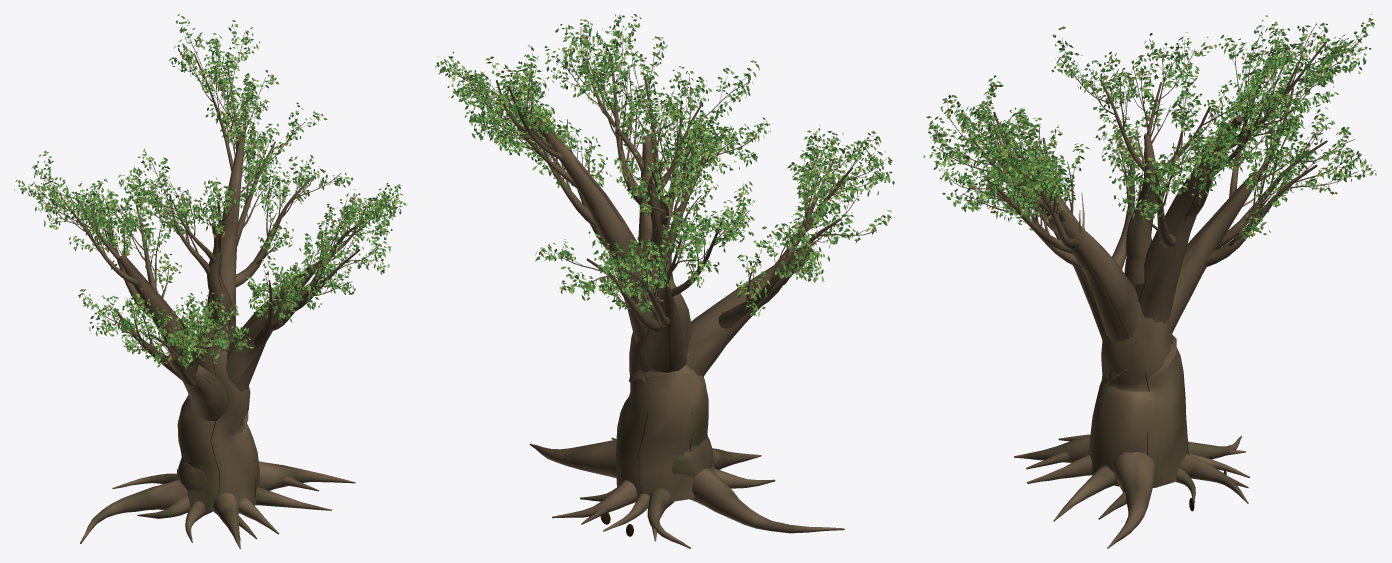
Rendered from ancient_tree_09_lod1.glb.
3 renders of one model, left to right at view 1: azimuth 30°, elevation 25°; view 2: azimuth 150°, elevation 25°; view 3: azimuth 270°, elevation 25°, orthographic. The views are drawn at different scales.
Visible parts, largest first — view 1: AncientTreeWood_LOD1, AncientLeaves_LOD1, FineBranches_LOD1; view 2: AncientTreeWood_LOD1, AncientLeaves_LOD1, FineBranches_LOD1; view 3: AncientTreeWood_LOD1, AncientLeaves_LOD1, FineBranches_LOD1, DirectedBarkGrooves_LOD1.
Part boxes in pixels (x1,y1,x2,y2): AncientTreeWood_LOD1: (33, 32, 394, 548); AncientLeaves_LOD1: (14, 14, 406, 369); FineBranches_LOD1: (20, 23, 396, 363); AncientTreeWood_LOD1: (447, 27, 880, 548); AncientLeaves_LOD1: (435, 14, 894, 316); FineBranches_LOD1: (439, 20, 886, 308); AncientTreeWood_LOD1: (932, 27, 1361, 548); AncientLeaves_LOD1: (923, 14, 1376, 240); FineBranches_LOD1: (932, 26, 1373, 239); DirectedBarkGrooves_LOD1: (1041, 122, 1251, 469).
Size of the model in its own units: 17.81 by 25.58 by 20.44.
